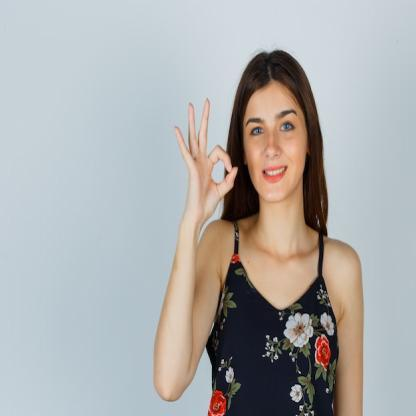ok: (172, 93, 240, 224)
